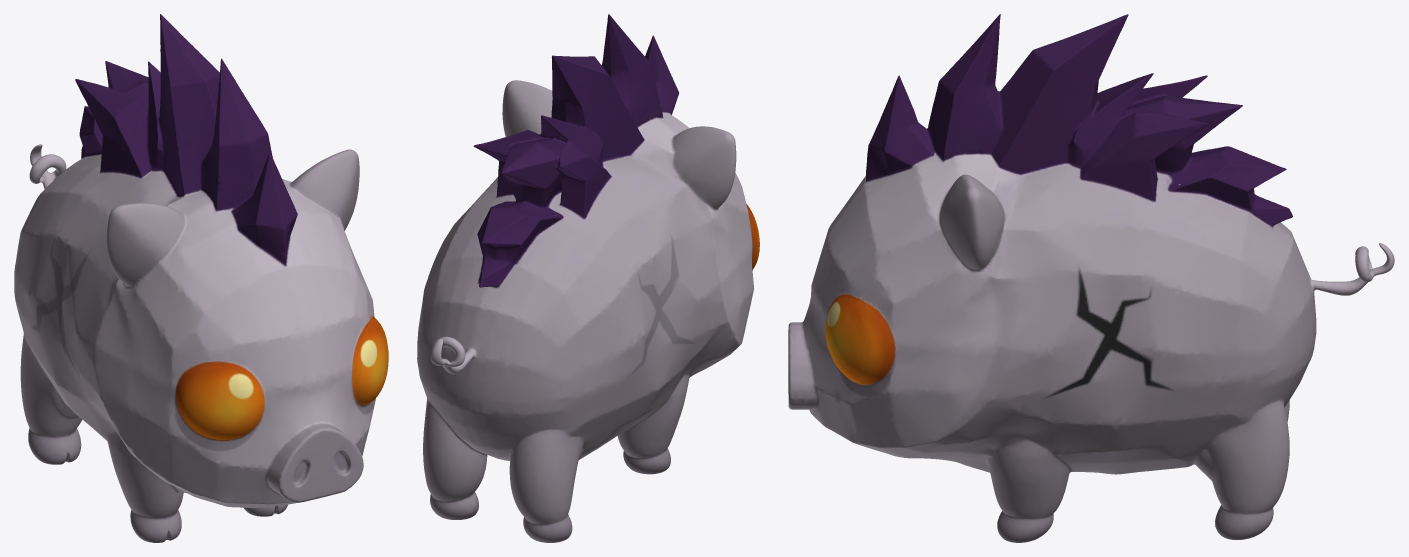
The model's file is thorn_v2.glb.
The picture shows the model from 3 angles, left to right: view 1: azimuth 30°, elevation 25°; view 2: azimuth 150°, elevation 25°; view 3: azimuth 270°, elevation 25°; orthographic projection. The views are drawn at different scales.
Size of the model in its own units: 0.9534 by 1.71 by 1.9.
Materials: 1 (1 with a texture image).
